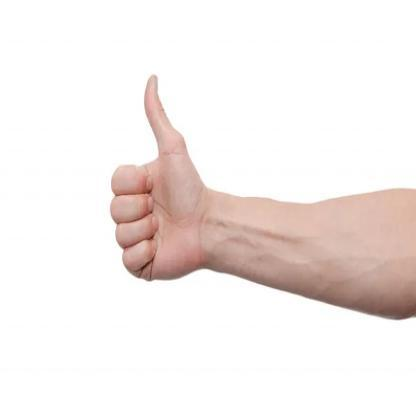thumb_up: (106, 71, 209, 284)
